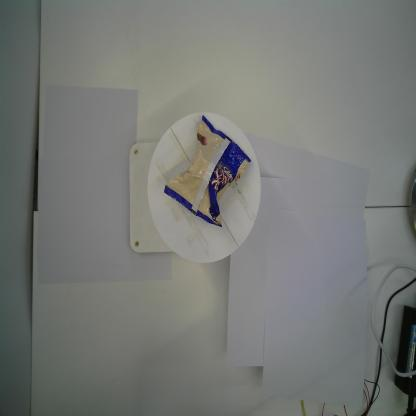Dessert: (163, 113, 252, 230)
